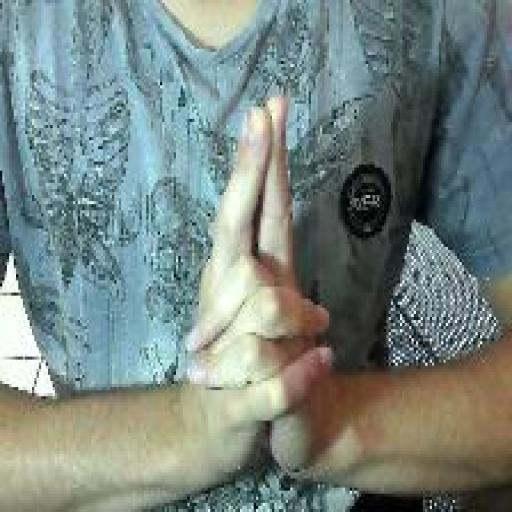Tora -tiger-: (183, 87, 336, 486)
